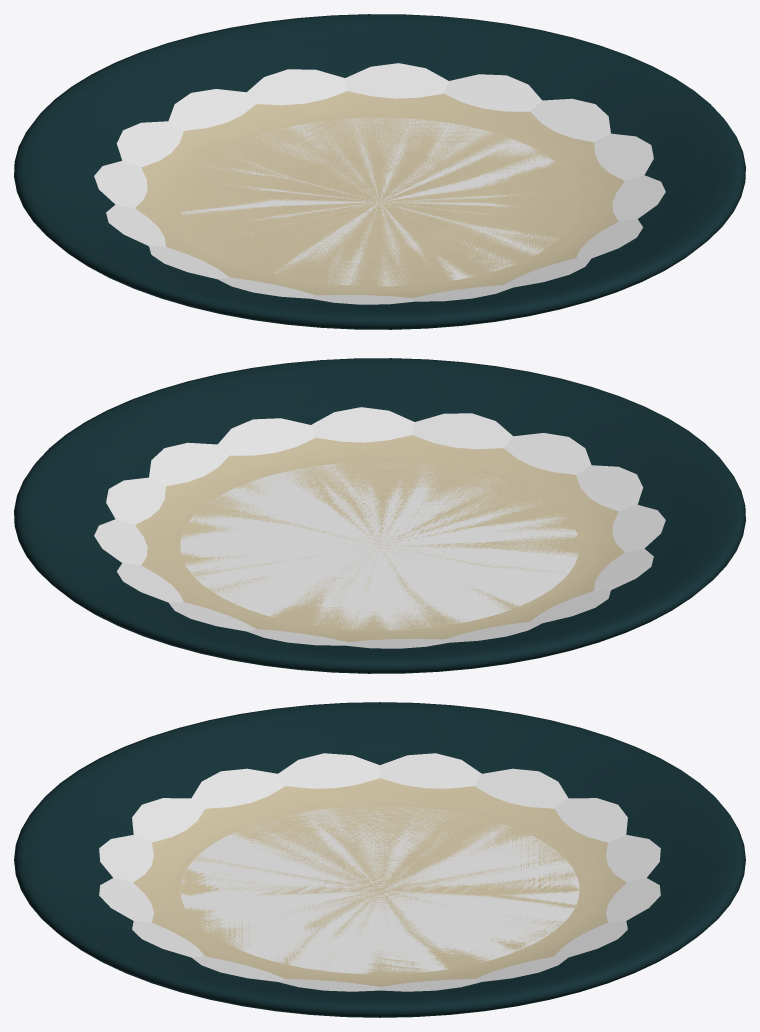
The model's file is DishPlate.fbx.
The picture shows the model from 3 angles, top to bottom: view 1: azimuth 30°, elevation 25°; view 2: azimuth 150°, elevation 25°; view 3: azimuth 270°, elevation 25°; orthographic projection.
Visible parts, largest first — view 1: DishPlate, COL_DishPlate_Base, COL_DishPlate_Wall_01_03, COL_DishPlate_Wall_01_04, COL_DishPlate_Wall_01_02, COL_DishPlate_Wall_01_05, COL_DishPlate_Wall_01_01, COL_DishPlate_Wall_01_06, COL_DishPlate_Wall_01_16, COL_DishPlate_Wall_01_07, COL_DishPlate_Wall_01_15, COL_DishPlate_Wall_01_08 (+6 smaller); view 2: DishPlate, COL_DishPlate_Base, COL_DishPlate_Wall_01_14, COL_DishPlate_Wall_01_13, COL_DishPlate_Wall_01_15, COL_DishPlate_Wall_01_12, COL_DishPlate_Wall_01_16, COL_DishPlate_Wall_01_11, COL_DishPlate_Wall_01_01, COL_DishPlate_Wall_01_10, COL_DishPlate_Wall_01_02, COL_DishPlate_Wall_01_09 (+6 smaller); view 3: DishPlate, COL_DishPlate_Base, COL_DishPlate_Wall_01_08, COL_DishPlate_Wall_01_09, COL_DishPlate_Wall_01_07, COL_DishPlate_Wall_01_10, COL_DishPlate_Wall_01_06, COL_DishPlate_Wall_01_11, COL_DishPlate_Wall_01_05, COL_DishPlate_Wall_01_12, COL_DishPlate_Wall_01_04, COL_DishPlate_Wall_01_13 (+6 smaller).
Boxes of the visible parts, x1,y1,x2,y2 form: DishPlate: [14, 14, 745, 329]; COL_DishPlate_Base: [182, 117, 557, 286]; COL_DishPlate_Wall_01_03: [345, 63, 448, 98]; COL_DishPlate_Wall_01_04: [246, 69, 347, 105]; COL_DishPlate_Wall_01_02: [444, 74, 541, 111]; COL_DishPlate_Wall_01_05: [168, 89, 255, 130]; COL_DishPlate_Wall_01_01: [530, 98, 610, 142]; COL_DishPlate_Wall_01_06: [116, 121, 183, 167]; COL_DishPlate_Wall_01_16: [594, 133, 653, 180]; COL_DishPlate_Wall_01_07: [94, 160, 147, 207]; COL_DishPlate_Wall_01_15: [612, 175, 665, 221]; COL_DishPlate_Wall_01_08: [106, 204, 165, 246]; DishPlate: [14, 358, 745, 673]; COL_DishPlate_Base: [180, 462, 578, 630]; COL_DishPlate_Wall_01_14: [311, 407, 414, 442]; COL_DishPlate_Wall_01_13: [412, 413, 513, 449]; COL_DishPlate_Wall_01_15: [218, 418, 315, 455]; COL_DishPlate_Wall_01_12: [504, 433, 591, 474]; COL_DishPlate_Wall_01_16: [149, 442, 229, 486]; COL_DishPlate_Wall_01_11: [576, 465, 643, 511]; COL_DishPlate_Wall_01_01: [106, 477, 165, 524]; COL_DishPlate_Wall_01_10: [612, 504, 665, 551]; COL_DishPlate_Wall_01_02: [94, 519, 147, 565]; COL_DishPlate_Wall_01_09: [594, 548, 653, 590]; DishPlate: [14, 702, 745, 1017]; COL_DishPlate_Base: [180, 806, 579, 974]; COL_DishPlate_Wall_01_08: [380, 753, 481, 788]; COL_DishPlate_Wall_01_09: [278, 753, 379, 788]; COL_DishPlate_Wall_01_07: [475, 768, 568, 808]; COL_DishPlate_Wall_01_10: [191, 768, 284, 808]; COL_DishPlate_Wall_01_06: [555, 798, 627, 842]; COL_DishPlate_Wall_01_11: [132, 798, 204, 842]; COL_DishPlate_Wall_01_05: [606, 835, 660, 882]; COL_DishPlate_Wall_01_12: [99, 835, 153, 882]; COL_DishPlate_Wall_01_04: [606, 878, 660, 922]; COL_DishPlate_Wall_01_13: [99, 878, 153, 922].
Bounding box in the file's own units: 0.22 × 0.02 × 0.22.
Materials: 2 (2 with a texture image).
